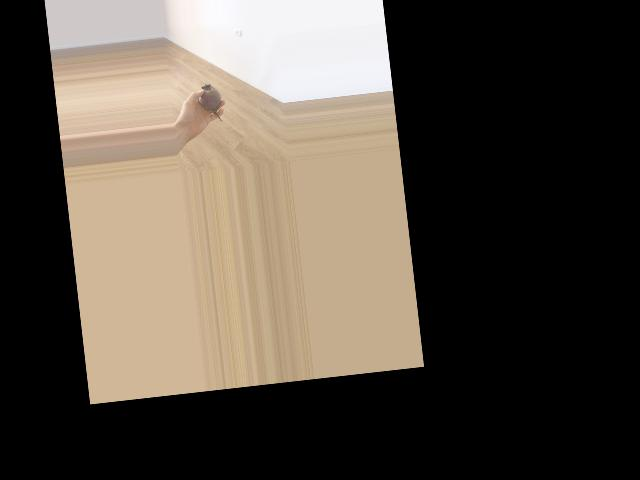beet: (197, 83, 224, 123)
